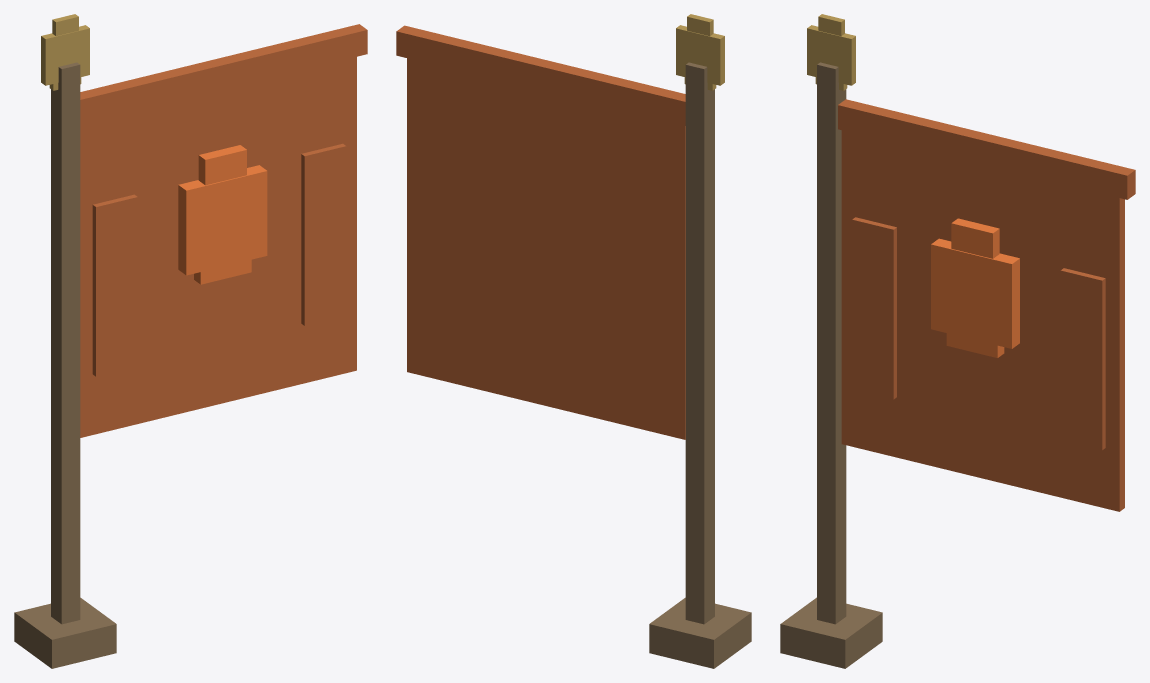
The model's file is cosmetic_banner_quay_flag.glb.
3 views of the same model, side by side, from view 1: azimuth 30°, elevation 25°; view 2: azimuth 150°, elevation 25°; view 3: azimuth 330°, elevation 25° (orthographic).
Parts seen in each view (by area): view 1: CosmeticArt_cloth, CosmeticArt_pole, CosmeticArt_crest, CosmeticArt_finial; view 2: CosmeticArt_cloth, CosmeticArt_pole, CosmeticArt_finial; view 3: CosmeticArt_cloth, CosmeticArt_pole, CosmeticArt_crest, CosmeticArt_finial.
Part boxes in pixels (x1=…): CosmeticArt_cloth: x1=80, y1=24, x2=367, y2=437; CosmeticArt_pole: x1=14, y1=62, x2=116, y2=668; CosmeticArt_crest: x1=178, y1=145, x2=267, y2=284; CosmeticArt_finial: x1=41, y1=14, x2=89, y2=90; CosmeticArt_cloth: x1=396, y1=25, x2=685, y2=439; CosmeticArt_pole: x1=649, y1=62, x2=751, y2=668; CosmeticArt_finial: x1=676, y1=14, x2=724, y2=90; CosmeticArt_cloth: x1=838, y1=99, x2=1135, y2=511; CosmeticArt_pole: x1=780, y1=62, x2=882, y2=668; CosmeticArt_crest: x1=931, y1=218, x2=1019, y2=357; CosmeticArt_finial: x1=807, y1=14, x2=855, y2=90.
Size of the model in its own units: 1.43 by 2.6 by 0.28.
